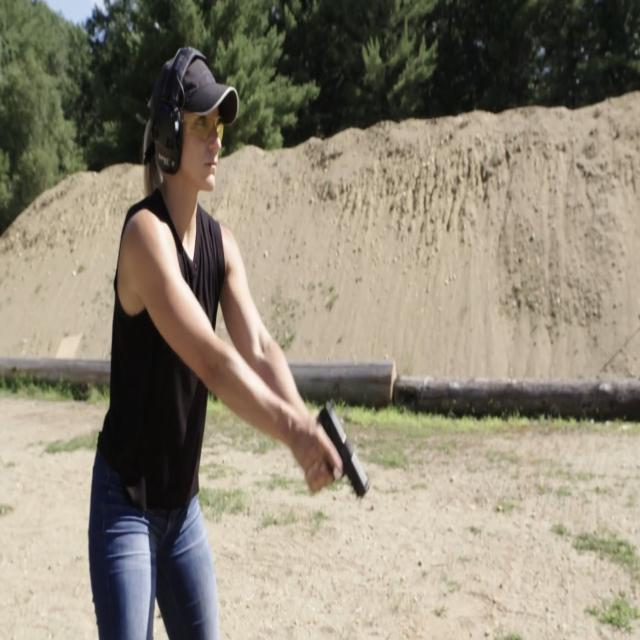Gun_Holder: (291, 382, 368, 512)
Person: (78, 32, 310, 640)
